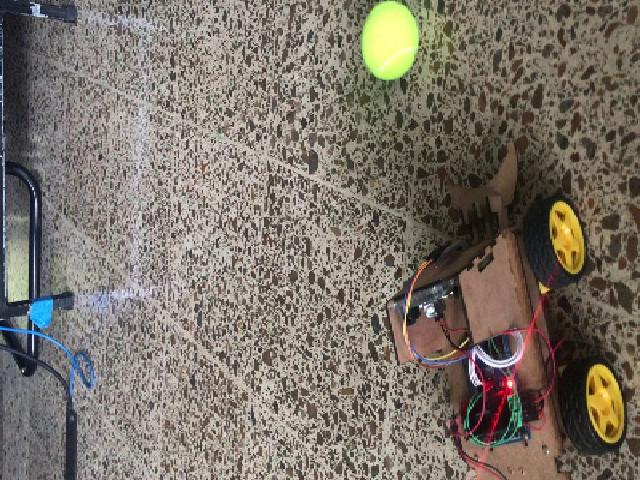Ball: (358, 0, 418, 82)
Robot: (384, 137, 626, 478)
